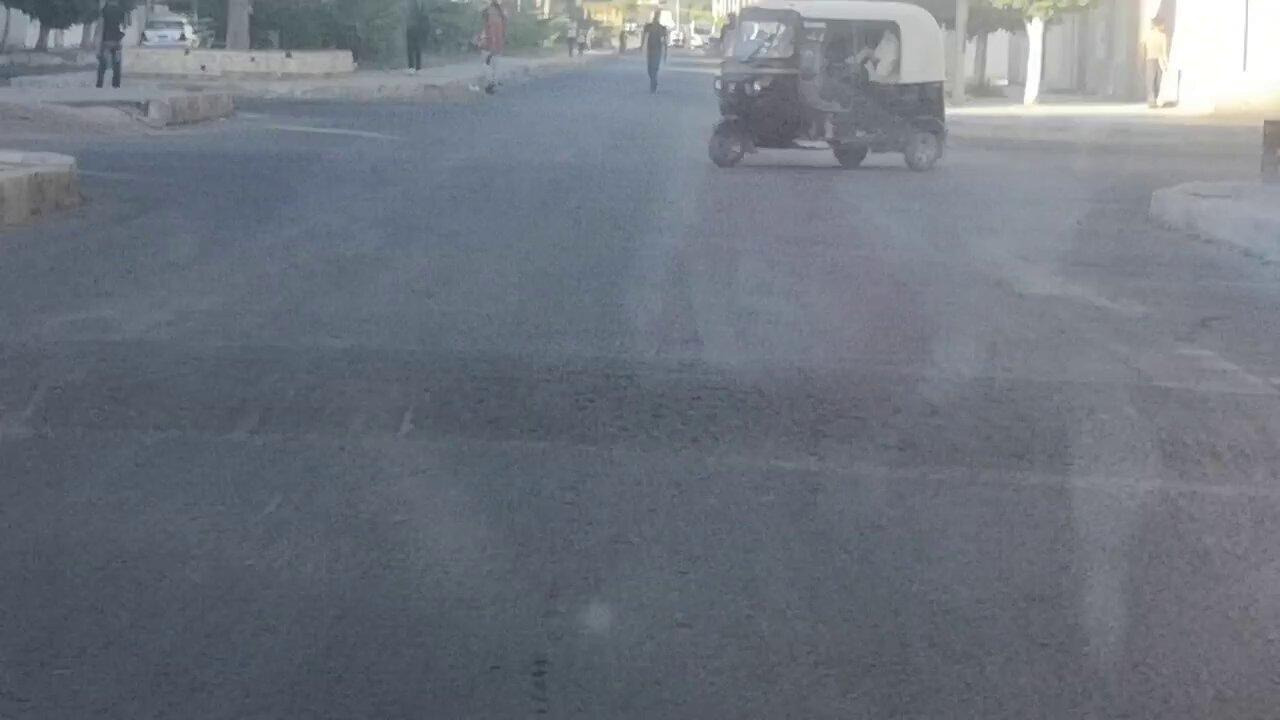Bump: (3, 331, 1280, 486)
